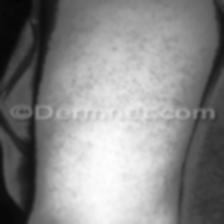Non-Cancerous Skin Condition: (53, 0, 194, 105), (46, 122, 172, 212)
